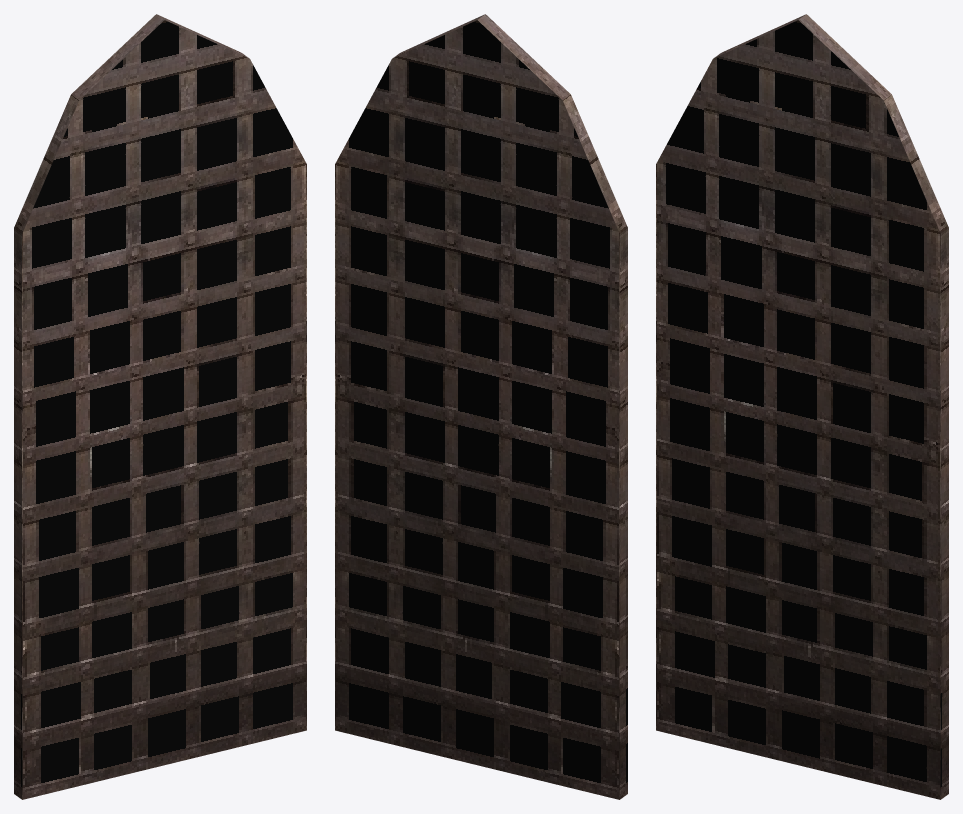
The model's file is cell_door.glb.
3 views of the same model, side by side, from view 1: azimuth 30°, elevation 25°; view 2: azimuth 150°, elevation 25°; view 3: azimuth 330°, elevation 25° (orthographic).
Visible parts, largest first — view 1: cell_door; view 2: cell_door; view 3: cell_door.
Boxes of the visible parts, x1,y1,x2,y2 form: cell_door: [14, 14, 306, 799]; cell_door: [335, 14, 627, 799]; cell_door: [656, 14, 948, 799].
Size of the model in its own units: 0.999 by 2.5 by 0.05.
Materials: 1 (1 with a texture image).
